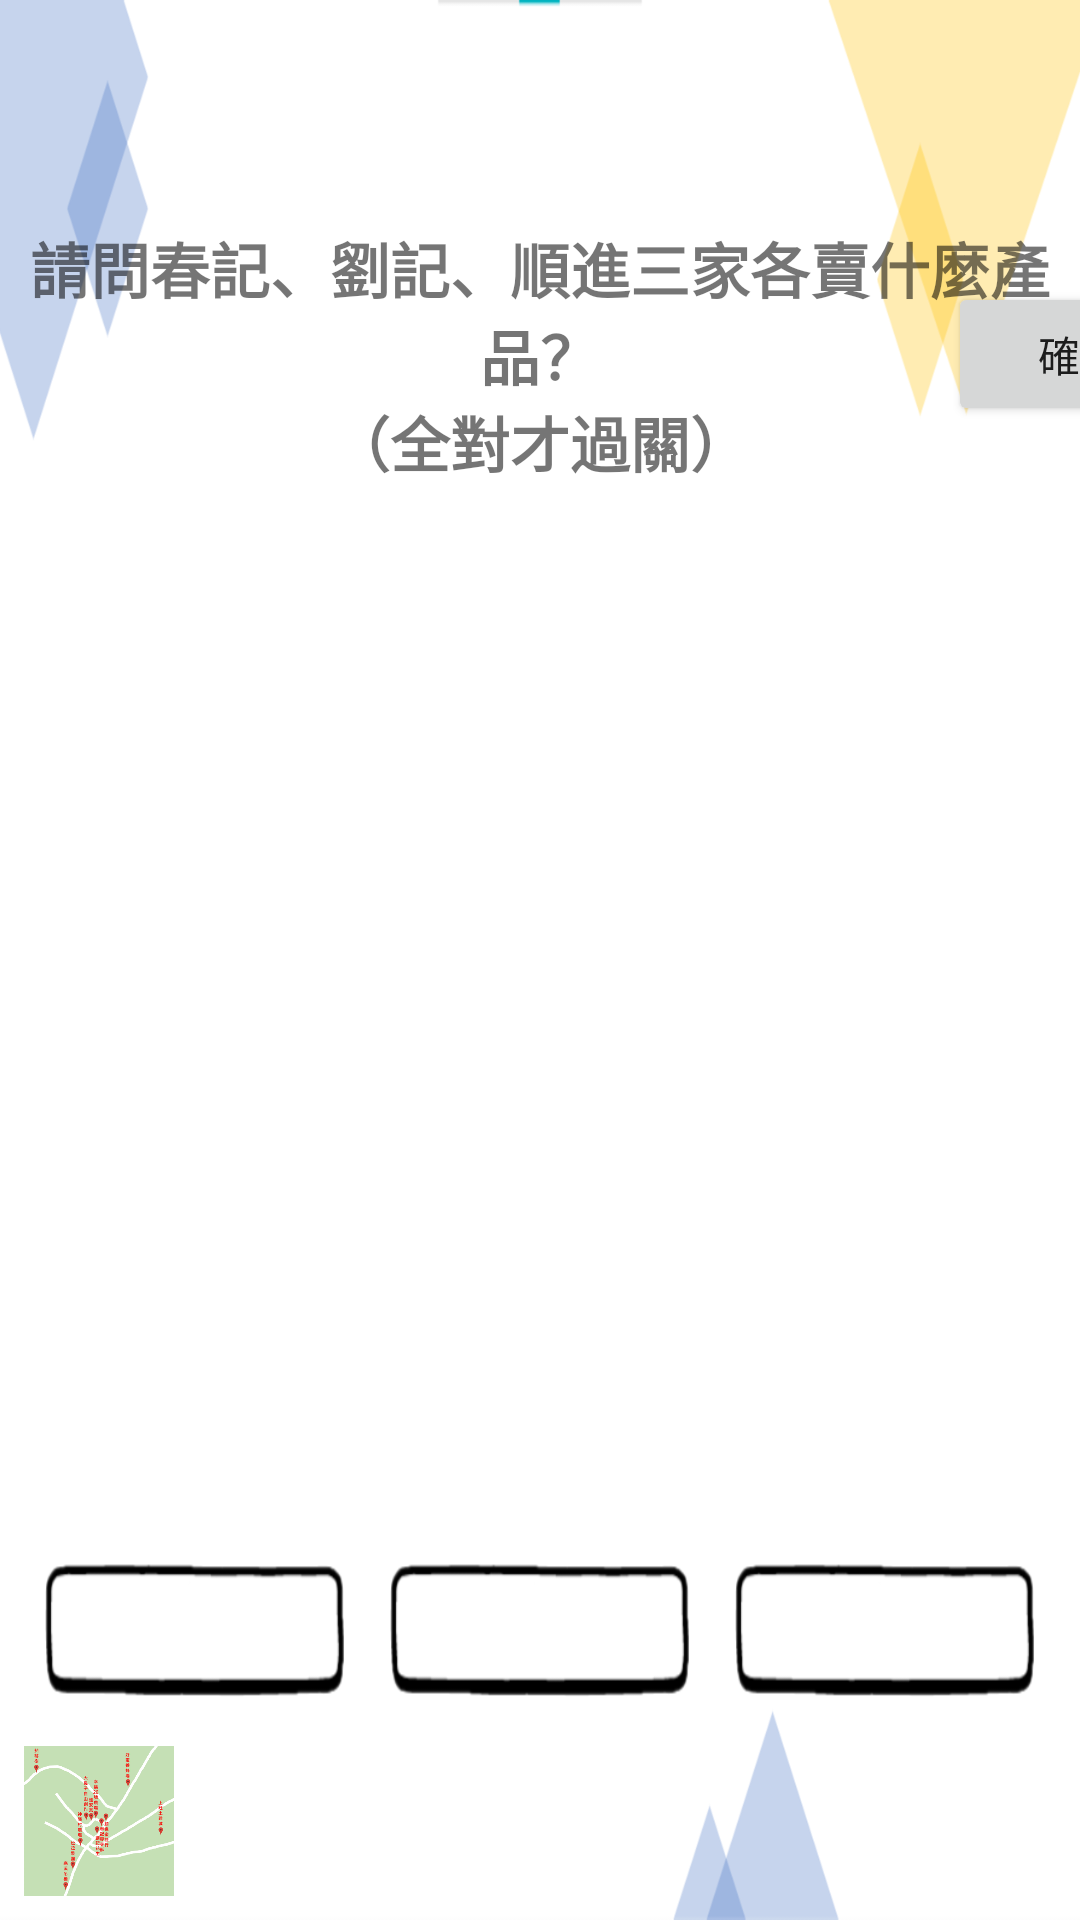

Icon click points for this 1080px x 1920px phone screenshot, format (x,y):
map: (99,1821)
